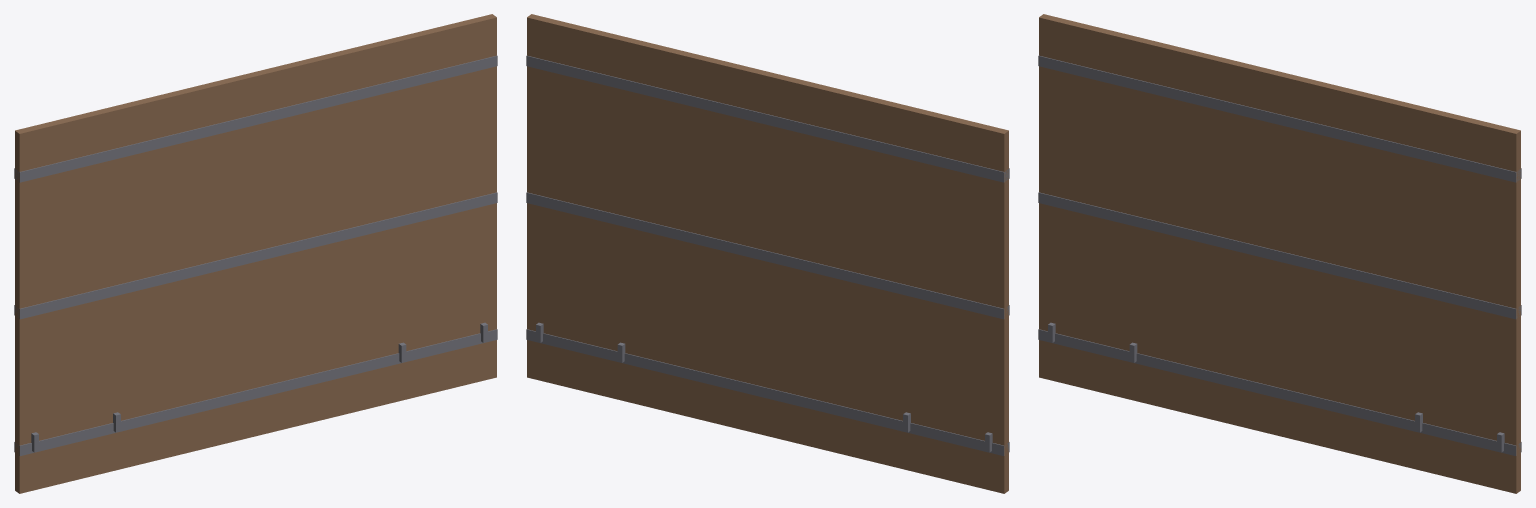
Rendered from CursedCandyCarnival_Doors.fbx.
3 renders of one model, left to right at view 1: azimuth 30°, elevation 25°; view 2: azimuth 150°, elevation 25°; view 3: azimuth 330°, elevation 25°, orthographic.
Visible parts, largest first — view 1: DoorLeaf_CUR_W5.84_H8.42_R, DoorLeaf_CUR_W5.84_H8.42_L, DoorLeaf_CUR_W3.85_H8.42_L, DoorLeaf_CUR_W3.85_H8.42_R; view 2: DoorLeaf_CUR_W5.84_H8.42_L, DoorLeaf_CUR_W5.84_H8.42_R, DoorLeaf_CUR_W3.85_H8.42_R, DoorLeaf_CUR_W3.85_H8.42_L; view 3: DoorLeaf_CUR_W5.84_H8.42_R, DoorLeaf_CUR_W5.84_H8.42_L, DoorLeaf_CUR_W3.85_H8.42_L, DoorLeaf_CUR_W3.85_H8.42_R.
Part boxes in pixels (bbox=[...]): DoorLeaf_CUR_W5.84_H8.42_R: bbox=[255, 14, 497, 435]; DoorLeaf_CUR_W5.84_H8.42_L: bbox=[14, 74, 258, 493]; DoorLeaf_CUR_W3.85_H8.42_L: bbox=[97, 72, 258, 473]; DoorLeaf_CUR_W3.85_H8.42_R: bbox=[254, 35, 415, 435]; DoorLeaf_CUR_W5.84_H8.42_L: bbox=[765, 72, 1009, 493]; DoorLeaf_CUR_W5.84_H8.42_R: bbox=[526, 14, 765, 434]; DoorLeaf_CUR_W3.85_H8.42_R: bbox=[608, 37, 769, 435]; DoorLeaf_CUR_W3.85_H8.42_L: bbox=[765, 72, 924, 449]; DoorLeaf_CUR_W5.84_H8.42_R: bbox=[1277, 72, 1521, 493]; DoorLeaf_CUR_W5.84_H8.42_L: bbox=[1038, 14, 1277, 434]; DoorLeaf_CUR_W3.85_H8.42_L: bbox=[1120, 37, 1281, 435]; DoorLeaf_CUR_W3.85_H8.42_R: bbox=[1277, 72, 1438, 451].
Bounding box in the file's own units: 11.69 × 8.42 × 0.44.
